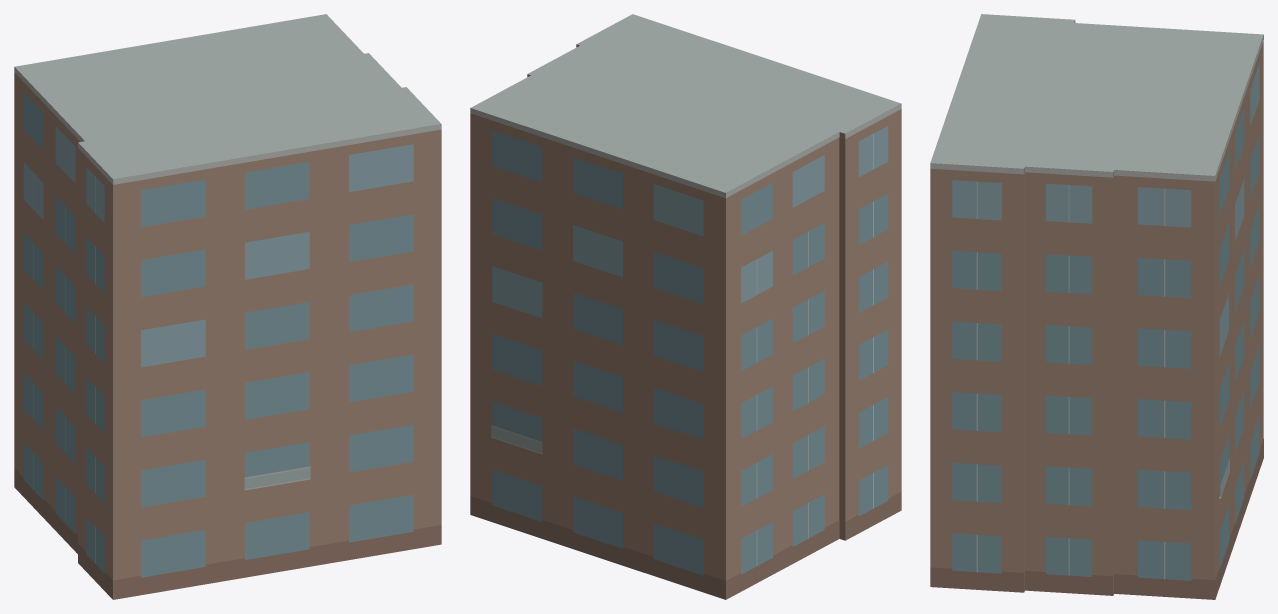
File: survey-upis-32653272.glb
The picture shows the model from 3 angles, left to right: view 1: azimuth 30°, elevation 25°; view 2: azimuth 150°, elevation 25°; view 3: azimuth 270°, elevation 25°; orthographic projection. The views are drawn at different scales.
Parts seen in each view (by area): view 1: survey-upis-32653272.tmp; view 2: survey-upis-32653272.tmp; view 3: survey-upis-32653272.tmp.
Part boxes in pixels (left/top/right/bottom): survey-upis-32653272.tmp: left=14, top=14, right=441, bottom=599; survey-upis-32653272.tmp: left=470, top=14, right=901, bottom=599; survey-upis-32653272.tmp: left=930, top=14, right=1263, bottom=599.
Size of the model in its own units: 15.09 by 18.4 by 13.13.
